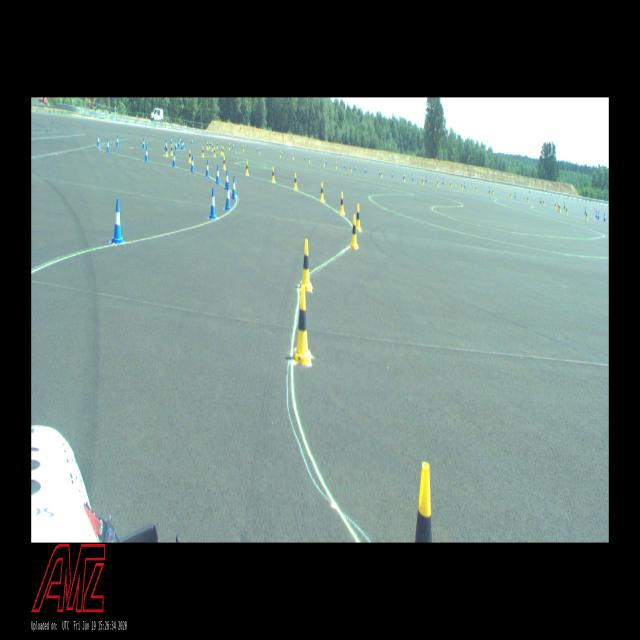blue_cone: (111, 198, 124, 244), (209, 188, 217, 218), (225, 183, 231, 209), (232, 176, 236, 199), (206, 160, 210, 177), (216, 166, 220, 183), (190, 156, 194, 172), (172, 152, 176, 167), (225, 170, 228, 190), (144, 147, 148, 161), (106, 139, 110, 152), (116, 136, 120, 146), (97, 134, 100, 146), (175, 141, 178, 150), (143, 138, 145, 149), (165, 140, 167, 150), (181, 141, 183, 150), (178, 139, 180, 147), (304, 155, 306, 160), (183, 140, 184, 149), (171, 137, 172, 144), (233, 142, 234, 149), (180, 137, 181, 144)
yellow_cone: (293, 284, 311, 364), (415, 462, 432, 543), (300, 240, 312, 292), (350, 215, 358, 249), (354, 204, 362, 232), (339, 192, 345, 215), (320, 182, 324, 202), (294, 173, 297, 190), (272, 167, 275, 182), (223, 157, 226, 169), (246, 160, 248, 174), (189, 150, 191, 162), (166, 144, 168, 156), (202, 147, 204, 156), (171, 146, 173, 155), (222, 147, 224, 156), (212, 143, 214, 151), (214, 148, 216, 156), (335, 161, 337, 169), (308, 156, 310, 163), (206, 142, 208, 149), (350, 165, 352, 172), (292, 153, 294, 159), (221, 145, 222, 154), (229, 143, 230, 150), (217, 142, 218, 149), (243, 145, 244, 152), (209, 141, 210, 148)
